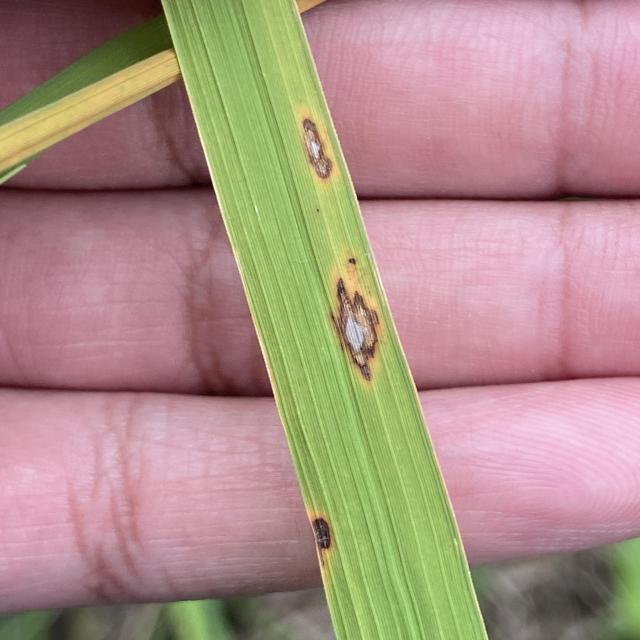Dao on: (333, 278, 379, 381), (302, 118, 332, 180)
